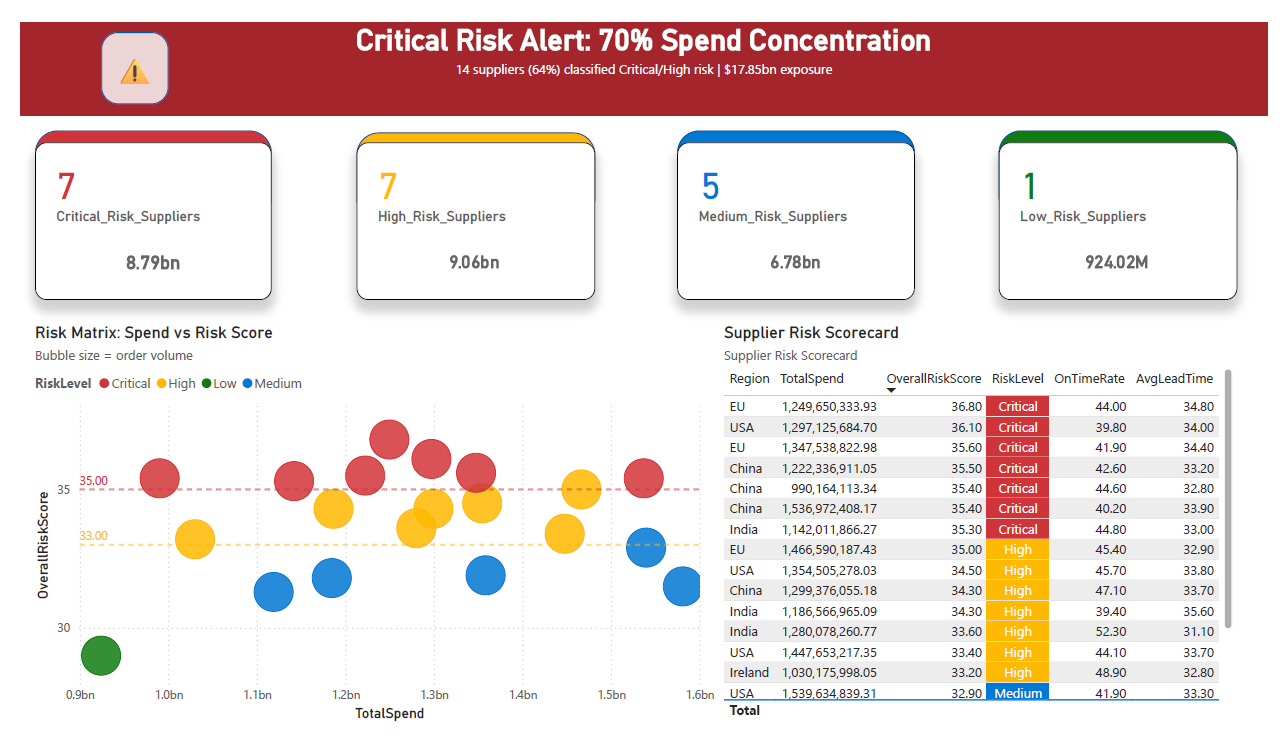

This screenshot's page, from the dashboard's own definition file:
{"tool":"powerbi","page":{"name":"Risk Intelligence","canvas":[1280,720],"ordinal":1},"visuals":[{"type":"shape","box":[1003.8,111,245.2,91.1],"z":0},{"type":"shape","box":[674.2,111,243.5,91.1],"z":1000},{"type":"shape","box":[344.5,112.6,245.2,91.1],"z":2000},{"type":"shape","box":[14.9,111,243.5,92.8],"z":3000},{"type":"cardVisual","fields":{"Data":["monthly_procurement_summary.Critical_Risk_Suppliers"]},"box":[14.9,122.6,243.5,162.3],"z":4000},{"type":"cardVisual","fields":{"Data":["monthly_procurement_summary.High_Risk_Suppliers"]},"box":[344.5,122.6,245.2,162.3],"z":8000},{"type":"cardVisual","fields":{"Data":["monthly_procurement_summary.Medium_Risk_Suppliers"]},"box":[674.2,122.6,243.5,162.3],"z":9000},{"type":"cardVisual","fields":{"Data":["monthly_procurement_summary.Low_Risk_Suppliers"]},"box":[1003.8,122.6,245.2,162.3],"z":10000},{"type":"cardVisual","fields":{"Data":["monthly_procurement_summary.Critical_Spend"]},"box":[69.6,217,134.2,54.7],"z":11000},{"type":"cardVisual","fields":{"Data":["monthly_procurement_summary.Medium_Spend"]},"box":[728.9,217,134.2,54.7],"z":12000},{"type":"cardVisual","fields":{"Data":["monthly_procurement_summary.High_Spend"]},"box":[399.2,217,134.2,54.7],"z":13000},{"type":"cardVisual","fields":{"Data":["monthly_procurement_summary.Low_Spend"]},"box":[1058.5,217,134.2,54.7],"z":14000},{"type":"scatterChart","title":"Risk Matrix: Spend vs Risk Score","fields":{"X":["supplier_risk_assessment.TotalSpend"],"Y":["supplier_risk_assessment.OverallRiskScore"],"Size":["CountNonNull(supplier_risk_assessment.TotalOrders)"],"Series":["supplier_risk_assessment.RiskLevel"]},"box":[9.9,308.1,707.3,412.5],"z":15000},{"type":"tableEx","title":"Supplier Risk Scorecard","fields":{"Values":["supplier_risk_assessment.Region","supplier_risk_assessment.TotalSpend","supplier_risk_assessment.OverallRiskScore","supplier_risk_assessment.RiskLevel","supplier_risk_assessment.OnTimeRate","supplier_risk_assessment.AvgLeadTime"]},"box":[717.3,308.1,531.7,412.5],"z":16000},{"type":"shape","title":"Critical Risk Alert: 70% Spend Concentration","box":[0,0,1280.5,96.1],"z":17001},{"type":"shape","box":[82.8,9.9,69.6,74.5],"z":17501}]}

Visuals, with their boxes in screenshot pixels (x1, y1, x2, y2), scaled from the page's 1280x720 canvas onto the 1285x739 screenshot:
shape: [1008, 114, 1254, 207]
shape: [677, 114, 921, 207]
shape: [346, 116, 592, 209]
shape: [15, 114, 259, 209]
cardVisual - monthly_procurement_summary.Critical_Risk_Suppliers: [15, 126, 259, 292]
cardVisual - monthly_procurement_summary.High_Risk_Suppliers: [346, 126, 592, 292]
cardVisual - monthly_procurement_summary.Medium_Risk_Suppliers: [677, 126, 921, 292]
cardVisual - monthly_procurement_summary.Low_Risk_Suppliers: [1008, 126, 1254, 292]
cardVisual - monthly_procurement_summary.Critical_Spend: [70, 223, 205, 279]
cardVisual - monthly_procurement_summary.Medium_Spend: [732, 223, 866, 279]
cardVisual - monthly_procurement_summary.High_Spend: [401, 223, 535, 279]
cardVisual - monthly_procurement_summary.Low_Spend: [1063, 223, 1197, 279]
"Risk Matrix: Spend vs Risk Score" scatterChart: [10, 316, 720, 738]
"Supplier Risk Scorecard" tableEx: [720, 316, 1254, 738]
"Critical Risk Alert: 70% Spend Concentration" shape: [0, 0, 1284, 99]
shape: [83, 10, 153, 87]
